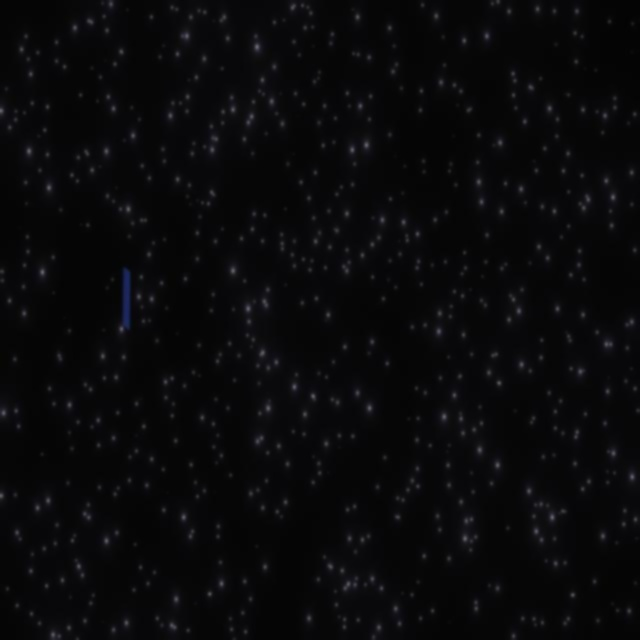large_debris: (119, 260, 134, 335)
